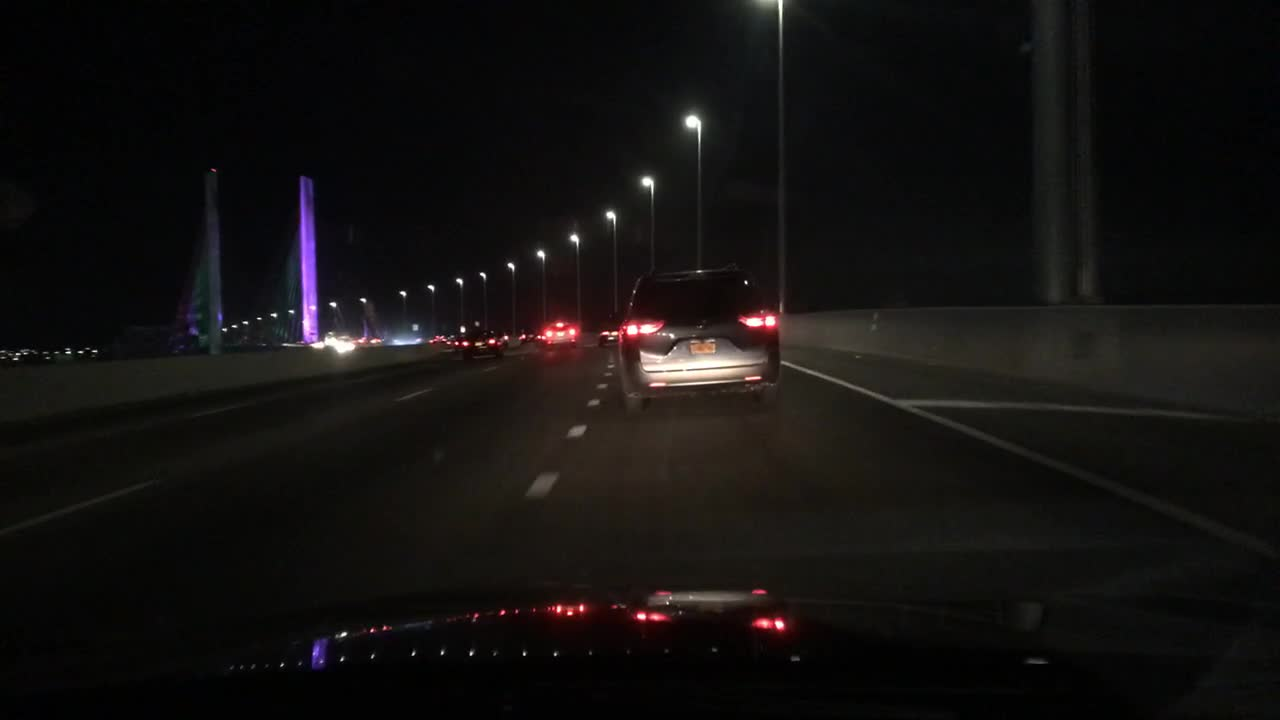car: (614, 258, 782, 417), (460, 330, 502, 363), (540, 318, 579, 349), (595, 327, 621, 346), (491, 331, 511, 347), (518, 328, 535, 344), (447, 335, 460, 347), (432, 334, 446, 342)
